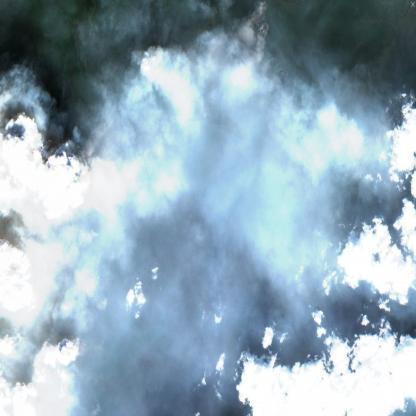fire: (0, 0, 326, 416), (336, 105, 416, 253)
